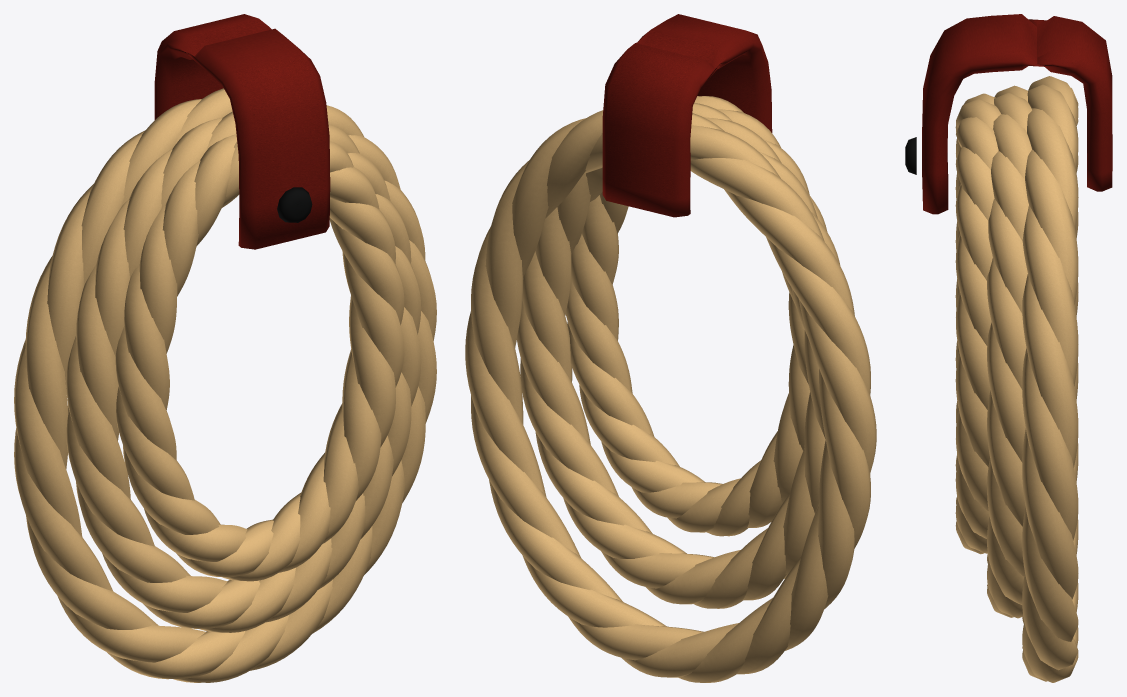
File: PM_TowRope.fbx
3 renders of one model, left to right at view 1: azimuth 30°, elevation 25°; view 2: azimuth 150°, elevation 25°; view 3: azimuth 270°, elevation 25°, orthographic. The views are drawn at different scales.
Visible parts, largest first — view 1: PM_TowRope; view 2: PM_TowRope; view 3: PM_TowRope.
Part boxes in pixels (left/top/right/bottom): PM_TowRope: left=14, top=14, right=436, bottom=682; PM_TowRope: left=465, top=14, right=876, bottom=682; PM_TowRope: left=905, top=14, right=1112, bottom=682.
Size of the model in its own units: 46.91 by 69.61 by 20.58.
Materials: 1 (1 with a texture image).
